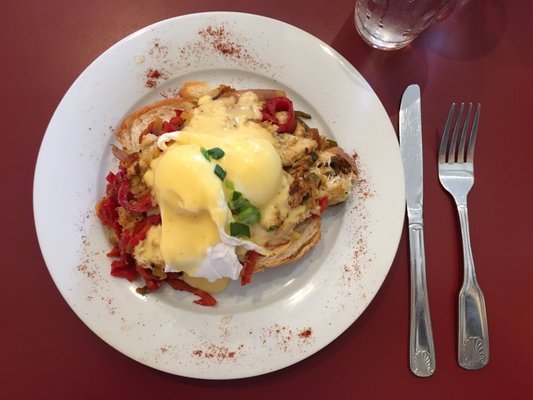burger: (437, 98, 492, 368), (401, 90, 437, 377)
pizza: (353, 0, 469, 50)
